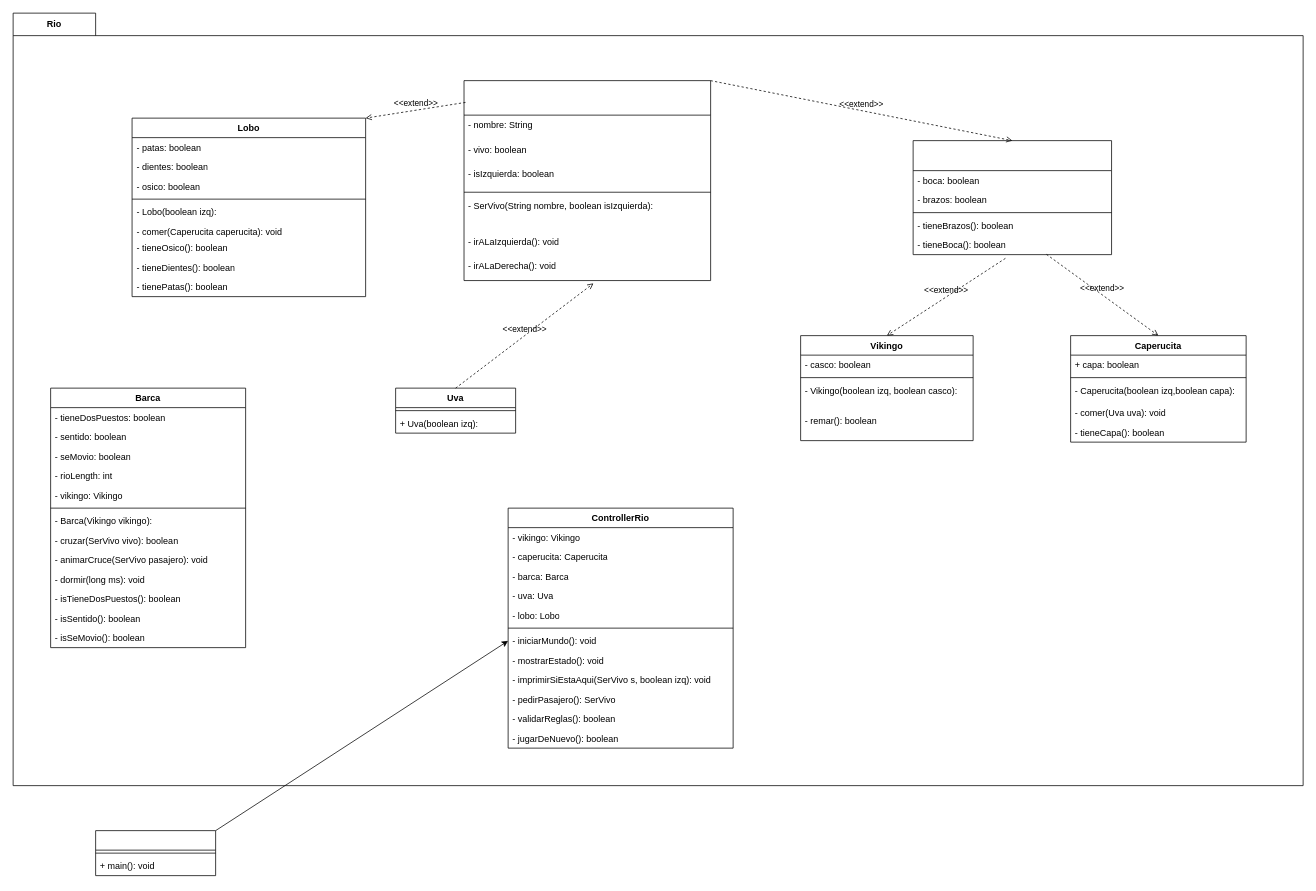
The diagram is 1316 pixels wide and 891 high, and some of its shapes have lost their labels. The box of each missing label's shape, as (x1, y1, x2, y2) in pixels:
<<Abstract>> Persona: (912, 140, 1112, 255)
<<Abstract>> SerVivo: (463, 80, 711, 281)
App: (95, 830, 216, 876)
